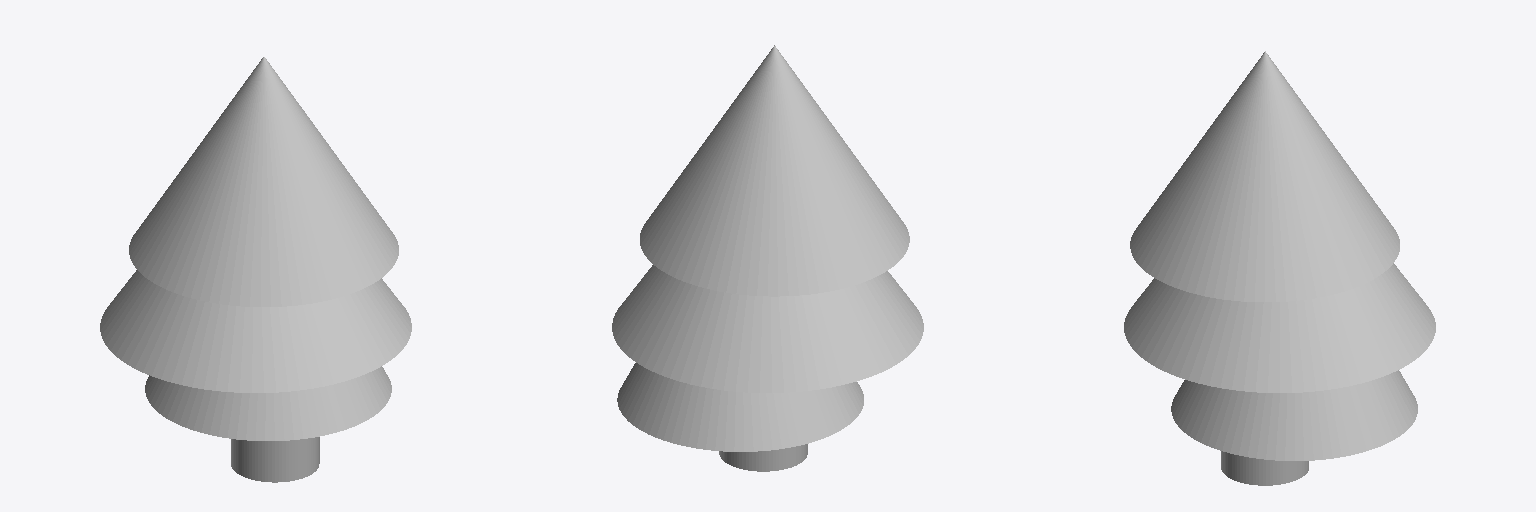
The model's file is arbolcono.obj.
3 renders of one model, left to right at view 1: azimuth 30°, elevation 25°; view 2: azimuth 150°, elevation 25°; view 3: azimuth 270°, elevation 25°, orthographic.
Parts seen in each view (by area): view 1: obj1, obj2, obj3, obj4; view 2: obj1, obj2, obj3, obj4; view 3: obj1, obj2, obj3, obj4.
Part boxes in pixels (x1,y1,x2,y2): obj1: (129, 57, 398, 306); obj2: (100, 270, 411, 392); obj3: (145, 366, 391, 440); obj4: (231, 437, 319, 482); obj1: (640, 45, 909, 296); obj2: (612, 265, 923, 392); obj3: (617, 363, 863, 451); obj4: (719, 444, 807, 471); obj1: (1130, 51, 1399, 301); obj2: (1124, 263, 1435, 392); obj3: (1171, 370, 1417, 460); obj4: (1221, 451, 1308, 485).
Size of the model in its own units: 0.3644 by 0.5292 by 0.3644.